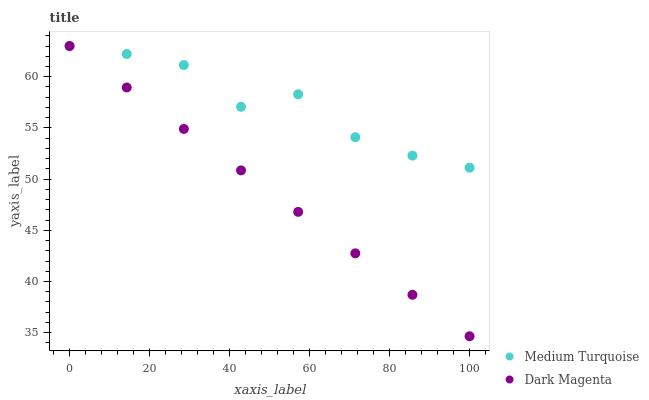axis: (55, 346, 491, 358), (40, 28, 55, 348)
legend: (497, 339, 649, 400)
point: (348, 244, 363, 261), (292, 203, 306, 218), (461, 160, 476, 173), (402, 151, 418, 163), (406, 285, 418, 299), (466, 330, 477, 342), (238, 99, 247, 113), (236, 165, 246, 177), (121, 83, 133, 92), (123, 49, 133, 58), (180, 61, 189, 71), (352, 132, 361, 142), (66, 42, 75, 50), (298, 87, 304, 99), (183, 128, 190, 136)
